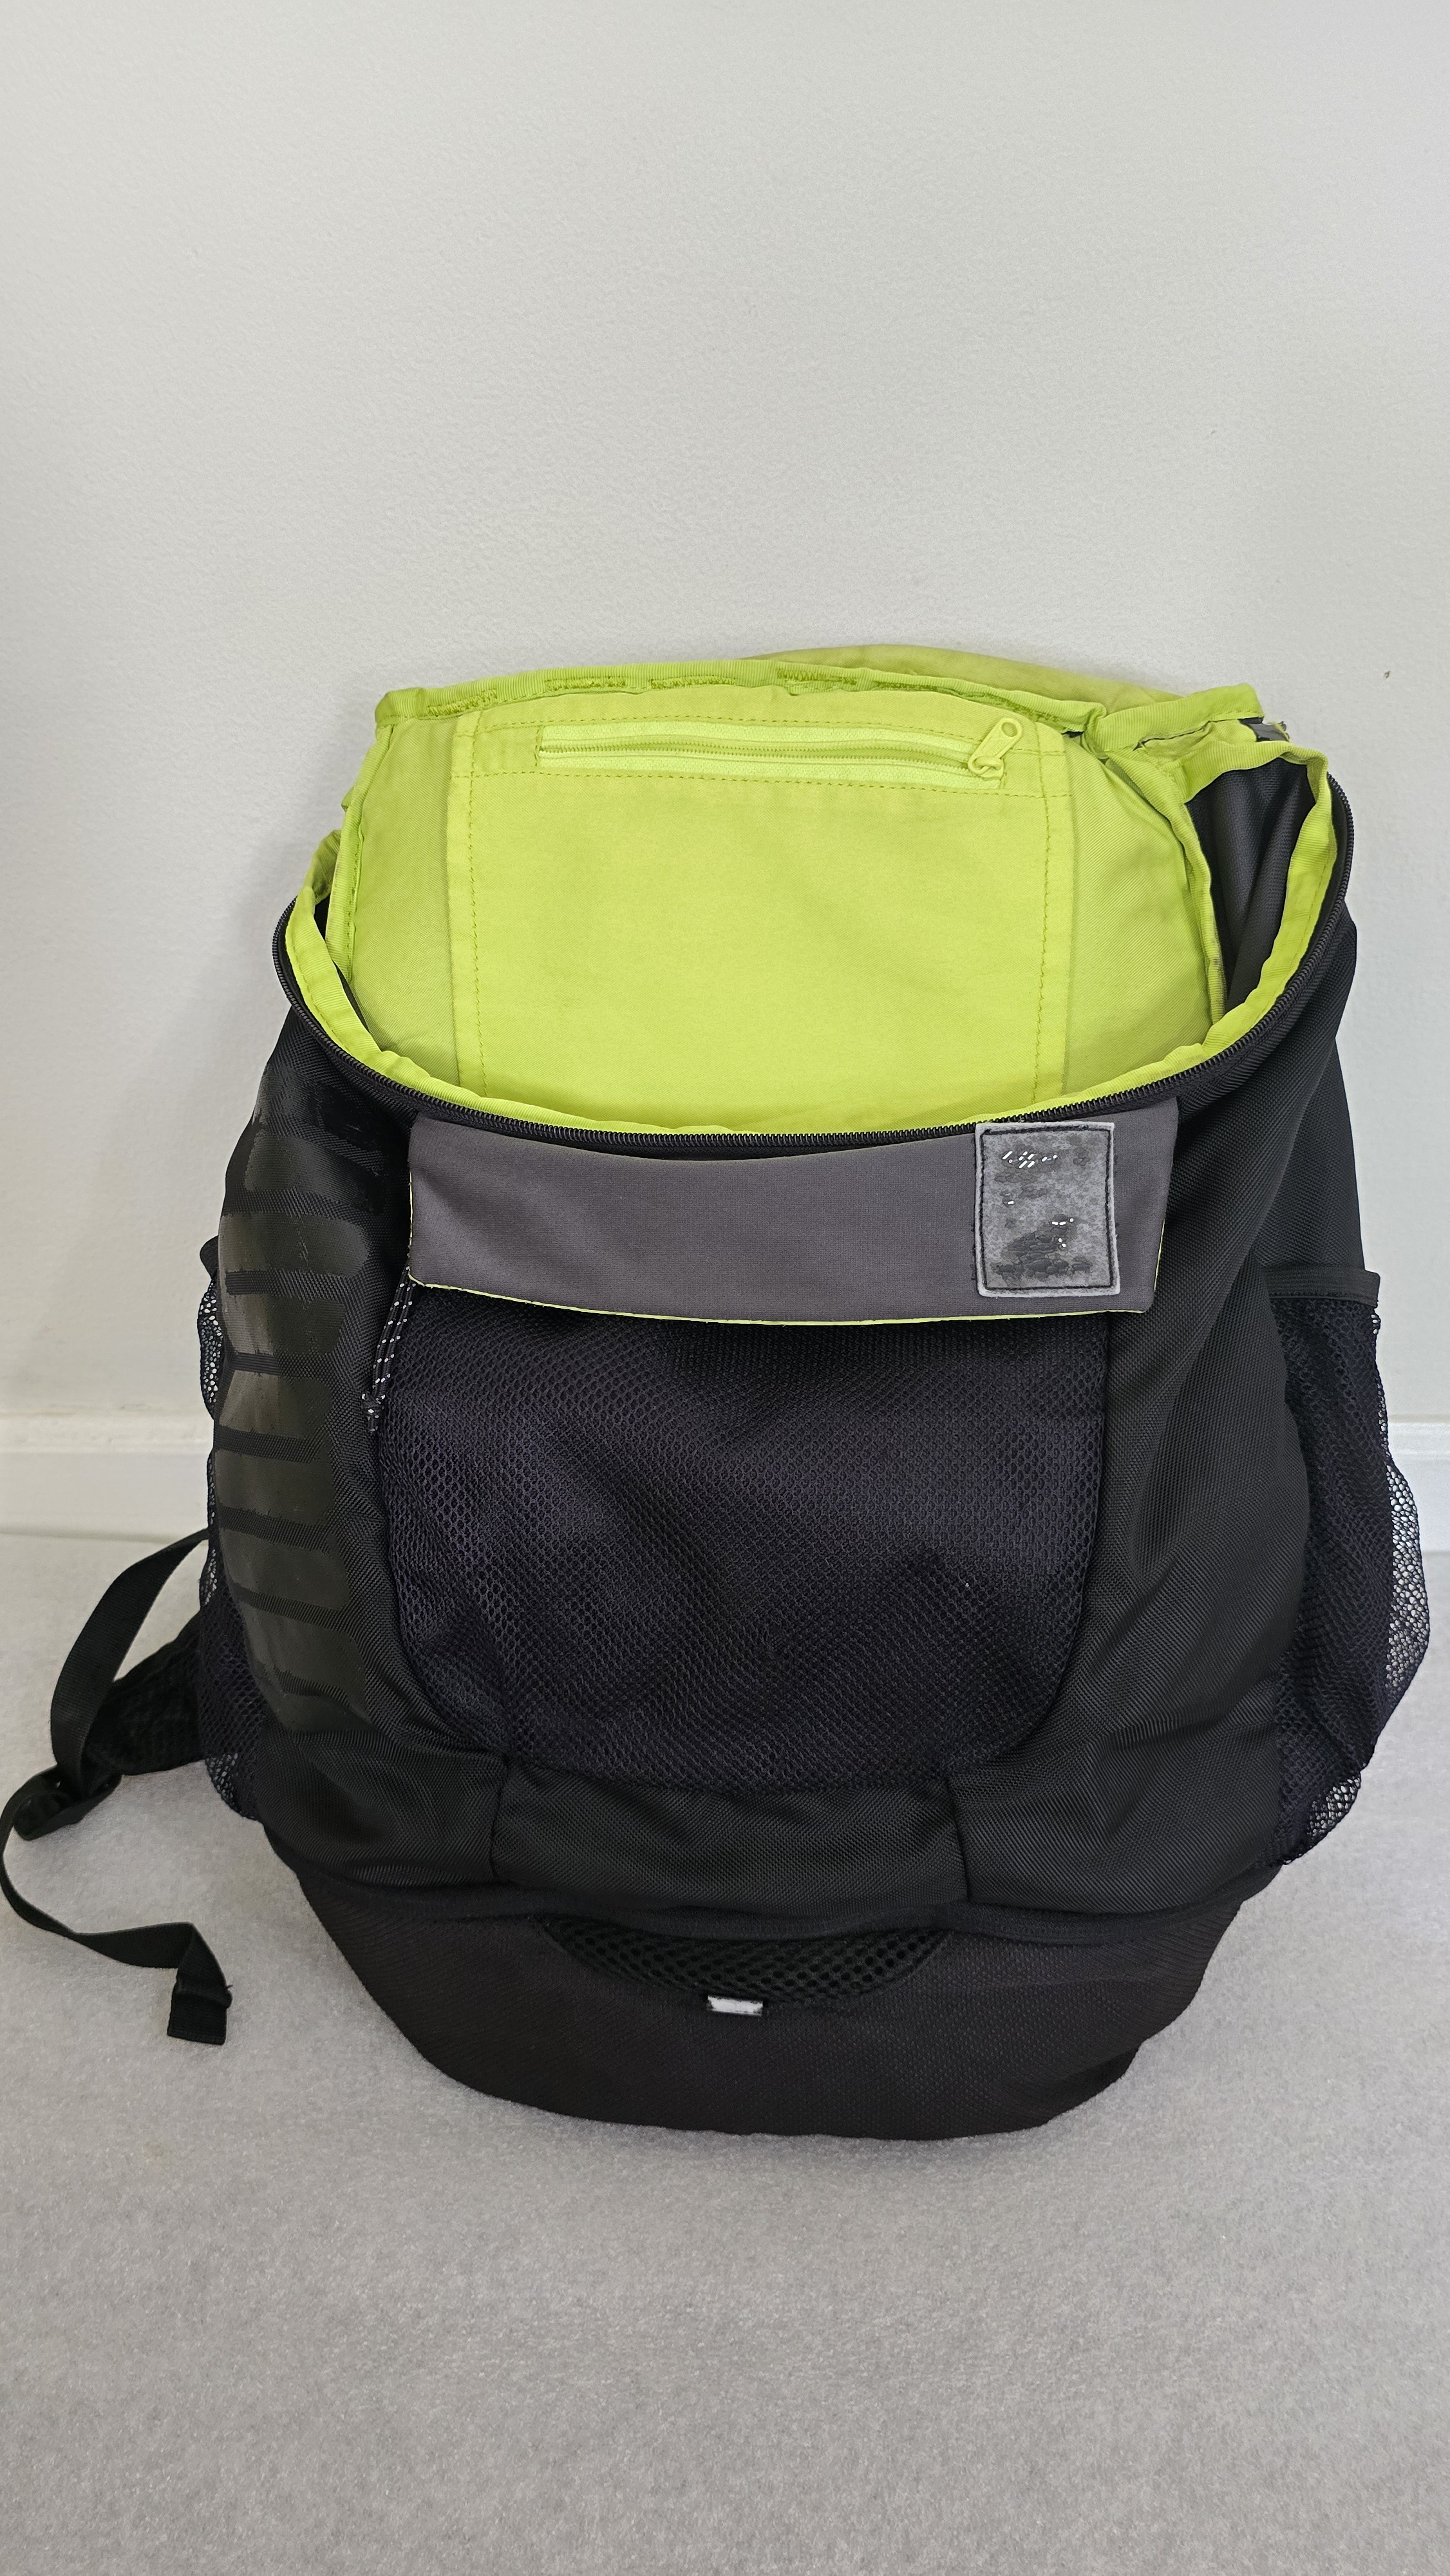bag: (152, 612, 1450, 2171)
